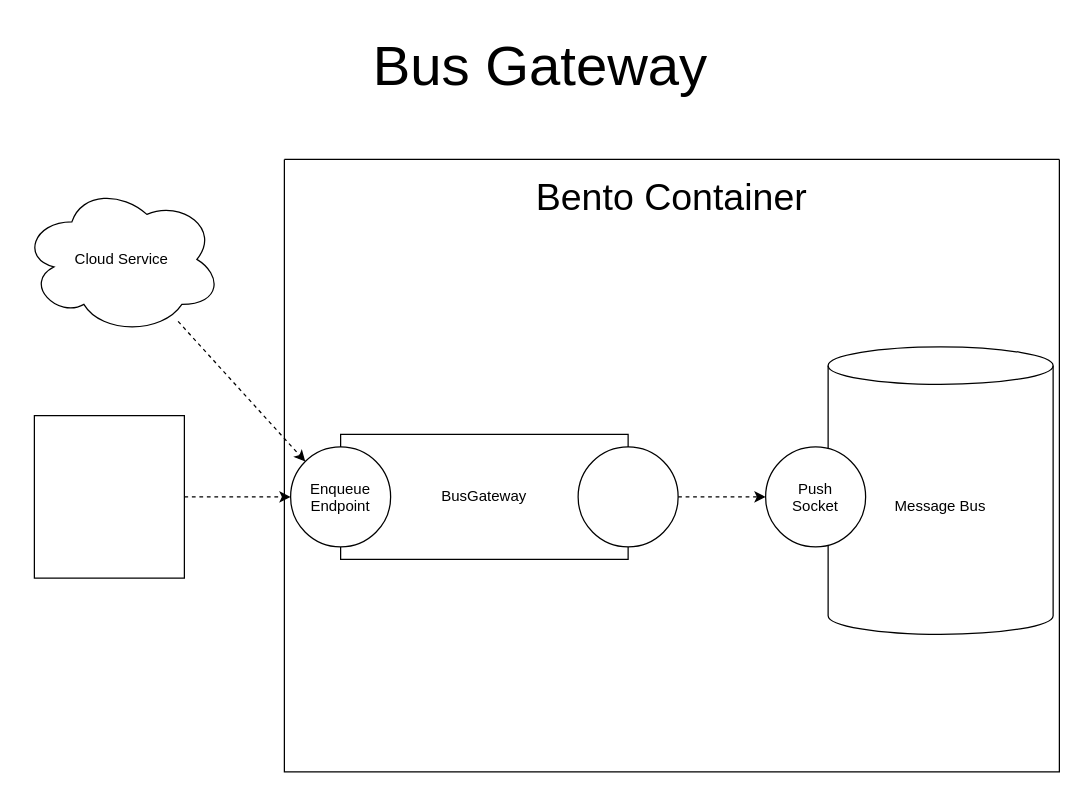
The diagram is 1081 pixels wide and 794 high, and some of its shapes have lost their labels. Here are the shapes that lost their labels. From the top down, the centre of each, then its label:
At (x=108, y=496): "Local App".
At (x=627, y=496): "MessageBus Hub".
